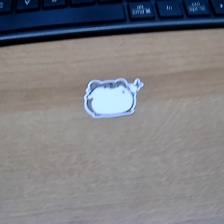mouse: (79, 77, 146, 121)
